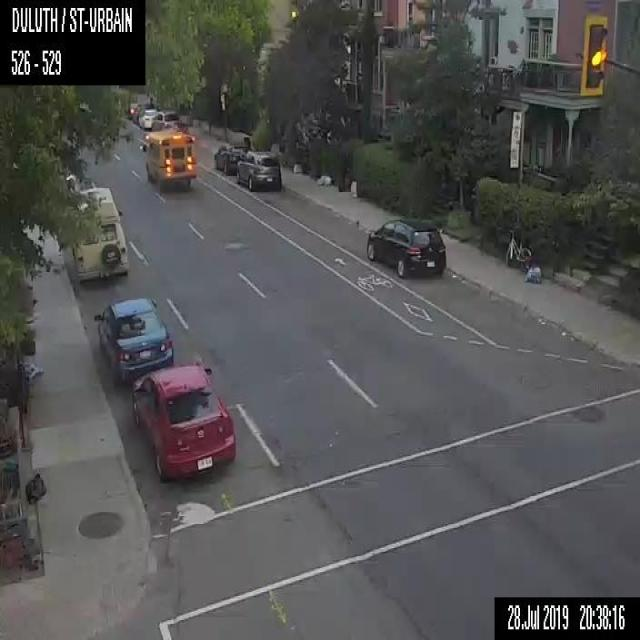bus: (141, 127, 196, 191)
vehicle: (132, 363, 236, 480), (93, 297, 175, 382), (72, 184, 128, 284), (364, 215, 446, 277), (236, 150, 282, 191), (214, 144, 248, 174), (152, 111, 182, 132), (138, 108, 158, 128)
